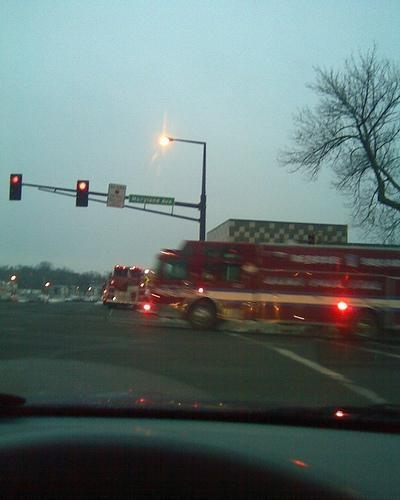car: (66, 279, 104, 304)
truck: (149, 239, 400, 331), (102, 263, 152, 312)
